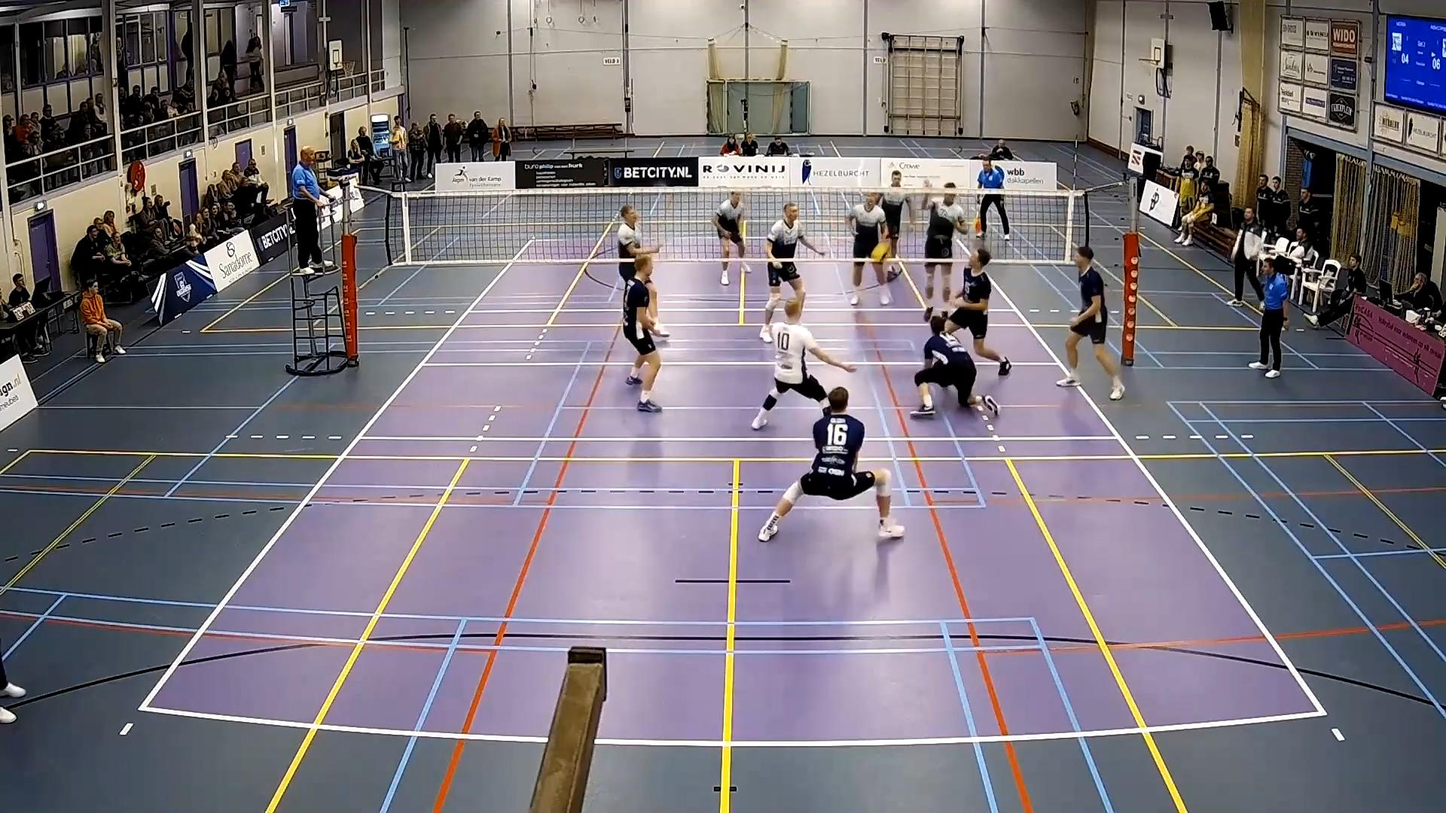Dig: (913, 309, 1002, 418)
Player: (759, 387, 903, 541), (752, 300, 855, 428), (1057, 246, 1124, 400), (760, 202, 823, 341), (946, 248, 1011, 375), (622, 254, 660, 412), (924, 181, 967, 320), (847, 192, 890, 305), (712, 191, 749, 285), (618, 205, 660, 281), (880, 169, 913, 258)
ball: (873, 241, 890, 262)
